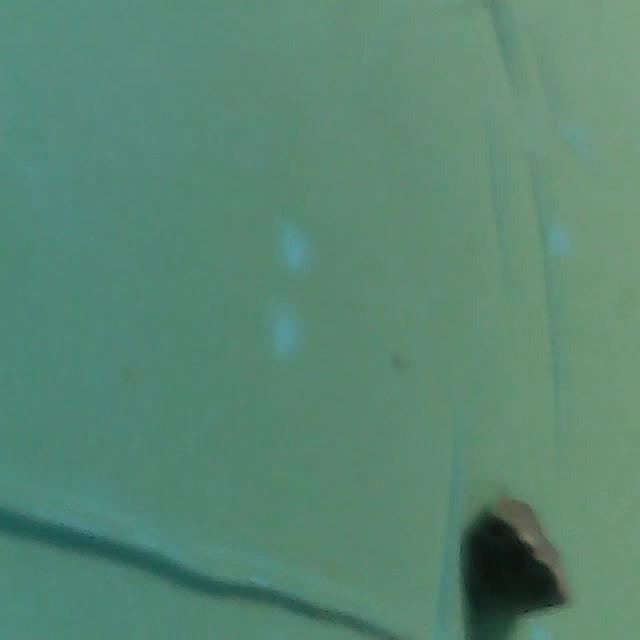rock: (454, 492, 580, 628)
